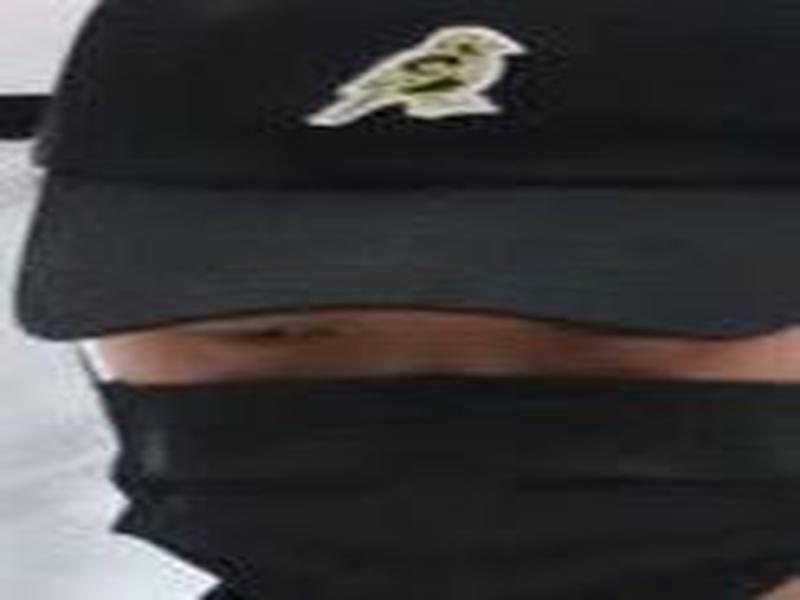with_mask: (72, 300, 800, 600)
